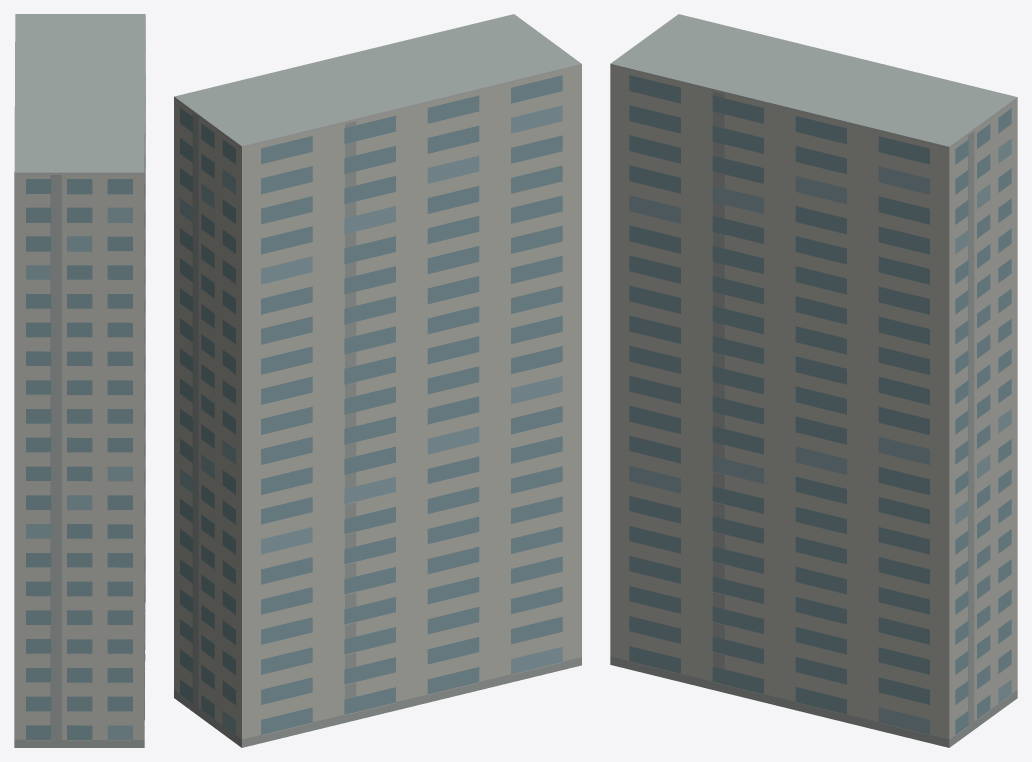
Rendered from residential-5a6f2784-d8f2-484c-8a15-6d949c7cf106.glb.
3 views of the same model, side by side, from view 1: azimuth 30°, elevation 25°; view 2: azimuth 150°, elevation 25°; view 3: azimuth 270°, elevation 25° (orthographic). The views are drawn at different scales.
Parts seen in each view (by area): view 1: residential-5a6f2784-d8f2-484c-8a15-6d949c7cf106.tmp; view 2: residential-5a6f2784-d8f2-484c-8a15-6d949c7cf106.tmp; view 3: residential-5a6f2784-d8f2-484c-8a15-6d949c7cf106.tmp.
Boxes of the visible parts, x1,y1,x2,y2 form: residential-5a6f2784-d8f2-484c-8a15-6d949c7cf106.tmp: (14,14,145,747); residential-5a6f2784-d8f2-484c-8a15-6d949c7cf106.tmp: (174,14,581,747); residential-5a6f2784-d8f2-484c-8a15-6d949c7cf106.tmp: (610,14,1017,747).
Size of the model in its own units: 28.44 by 60 by 36.85.
